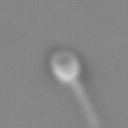abnormal: (71, 80, 102, 128)
